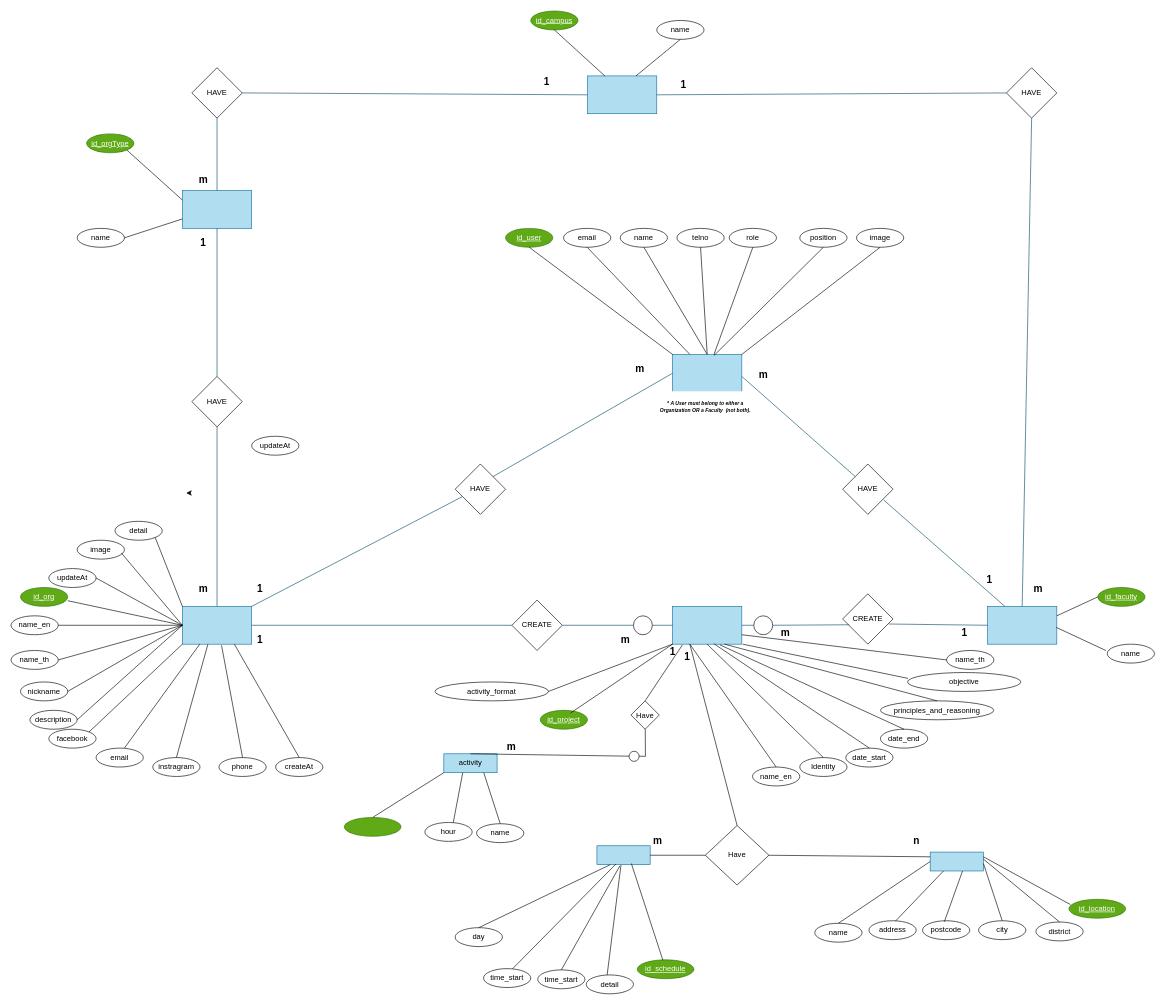
This 1166x1005 diagram has some shape labels left out. Here are the shapes that lost their labels. From the top down, the box of each, then its label:
(587, 75, 657, 114): Campus
(182, 190, 252, 228): OrganizationType
(672, 354, 742, 392): User
(182, 606, 252, 644): Organization
(672, 606, 742, 644): Project
(987, 606, 1057, 644): Faculty
(344, 817, 401, 836): id_activity
(596, 845, 650, 865): Schedule
(930, 851, 983, 871): Location
